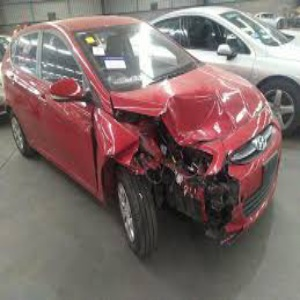bonnet: (134, 82, 248, 146)
bumper: (150, 161, 255, 244)
